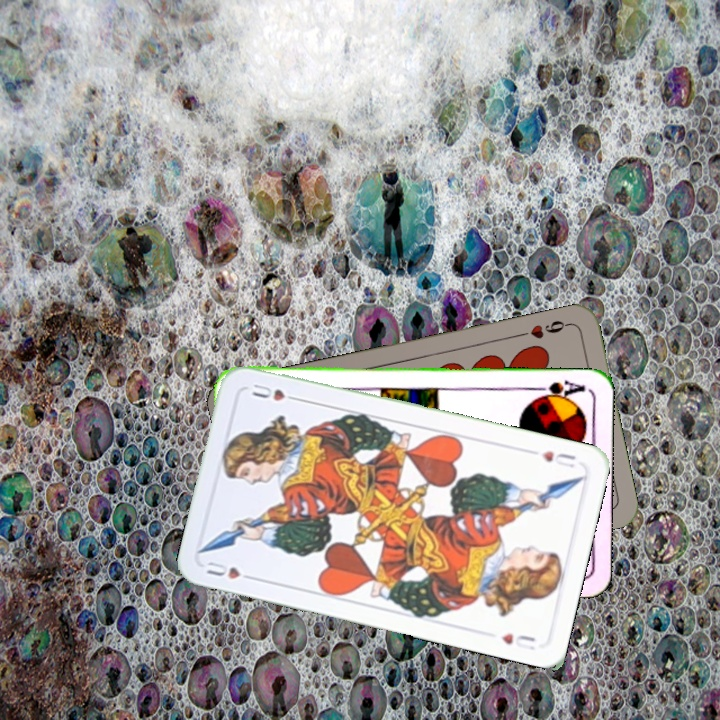H9: (514, 316, 573, 342)
HU: (202, 557, 259, 583), (537, 447, 578, 471)
SA: (528, 375, 587, 403)
